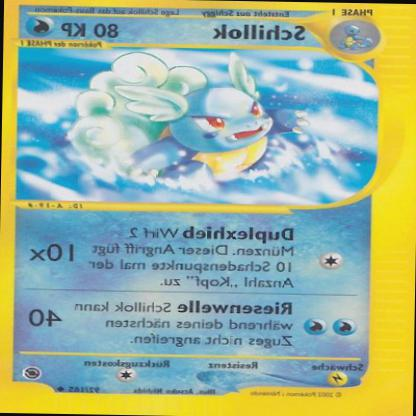Wartortle: (72, 50, 290, 191)
